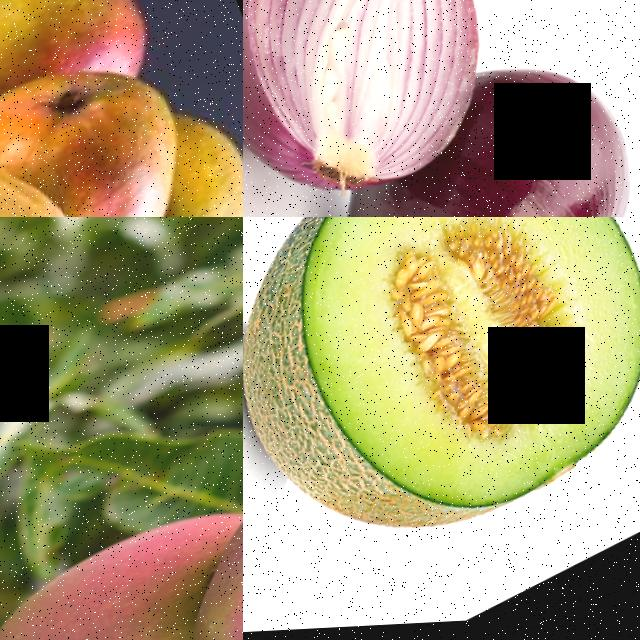mango: (0, 514, 243, 640), (0, 0, 159, 158), (156, 370, 243, 640), (0, 106, 174, 217)
melon: (243, 217, 640, 621)
onion: (243, 0, 540, 216), (309, 70, 640, 217)
